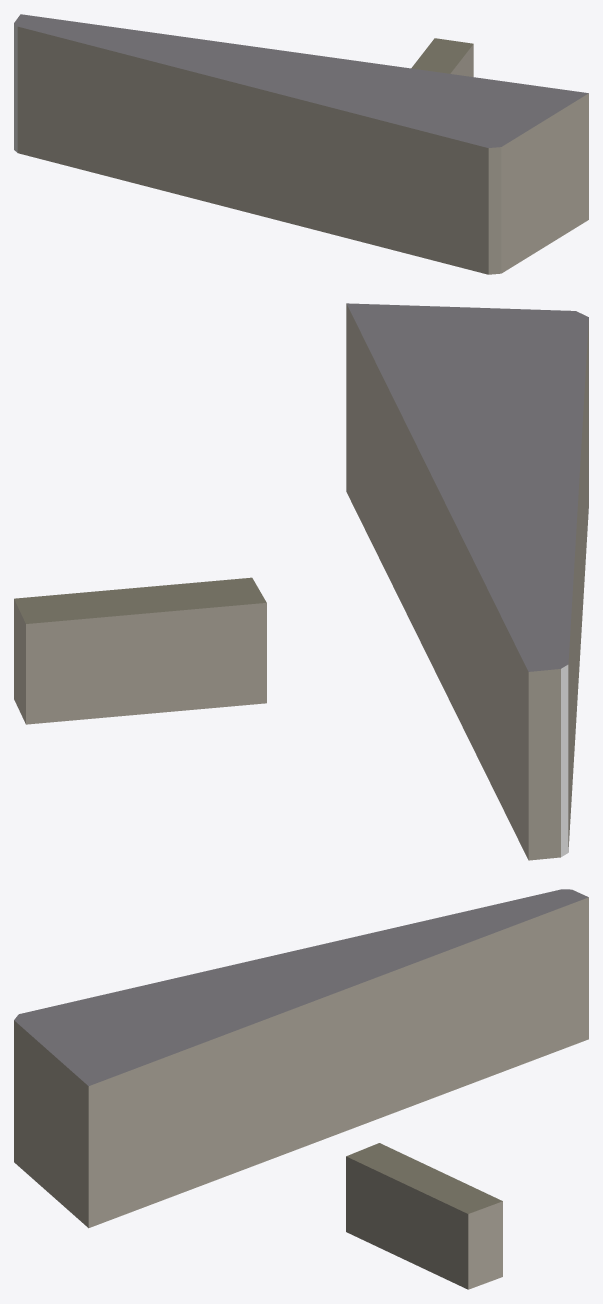
3 views of the same model, one above another, from view 1: azimuth 30°, elevation 25°; view 2: azimuth 150°, elevation 25°; view 3: azimuth 270°, elevation 25° (orthographic). The views are drawn at different scales.
Parts seen in each view (by area): view 1: tuile; view 2: tuile; view 3: tuile.
Part boxes in pixels (box(x1,y1,x2,y2)): tuile: box(14, 14, 588, 274); tuile: box(14, 303, 588, 860); tuile: box(14, 889, 588, 1289).
Bounding box in the file's own units: 114 × 40.85 × 122.
